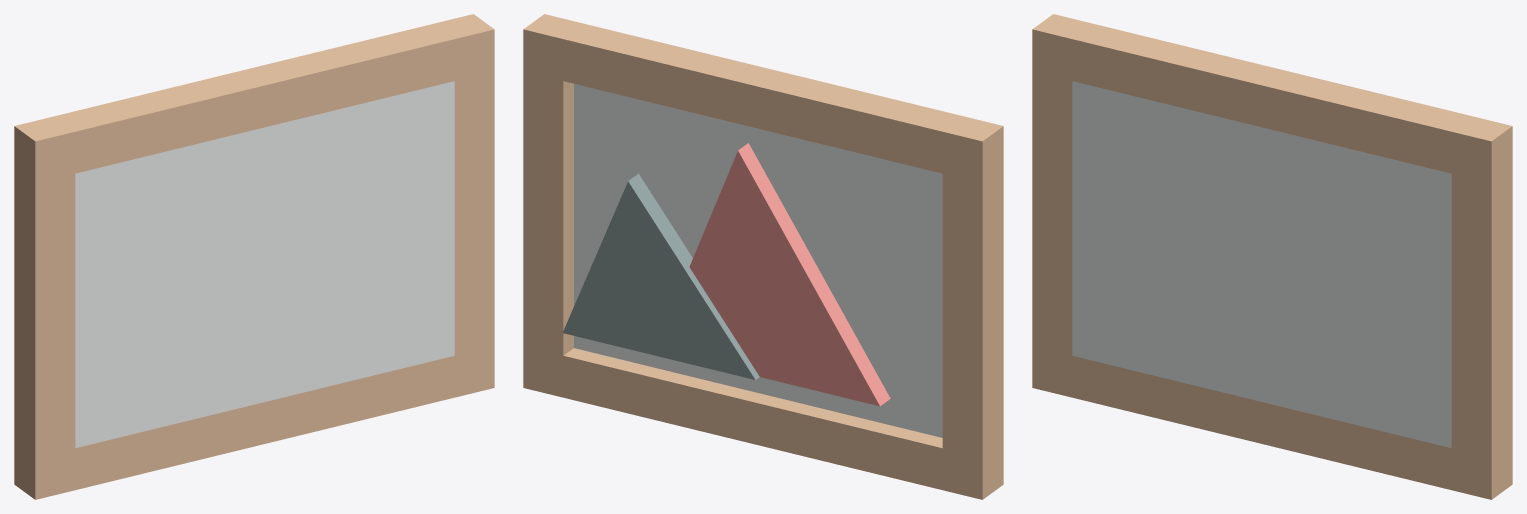
File: diner_wall_art_b.glb
3 views of the same model, side by side, from view 1: azimuth 30°, elevation 25°; view 2: azimuth 150°, elevation 25°; view 3: azimuth 330°, elevation 25° (orthographic).
Parts seen in each view (by area): view 1: wall_art_b_canvas, wall_art_b_frame_top, wall_art_b_frame_bottom, wall_art_b_frame_left, wall_art_b_frame_right; view 2: wall_art_b_canvas, wall_art_b_frame_top, wall_art_b_frame_bottom, wall_art_b_red_peak, wall_art_b_dark_peak, wall_art_b_frame_left, wall_art_b_frame_right; view 3: wall_art_b_canvas, wall_art_b_frame_top, wall_art_b_frame_bottom, wall_art_b_frame_right, wall_art_b_frame_left.
Part boxes in pixels (<box>): wall_art_b_canvas: <box>75,81,454,448</box>; wall_art_b_frame_top: <box>14,14,494,183</box>; wall_art_b_frame_bottom: <box>14,346,494,499</box>; wall_art_b_frame_left: <box>14,168,75,457</box>; wall_art_b_frame_right: <box>454,71,494,355</box>; wall_art_b_canvas: <box>574,84,942,437</box>; wall_art_b_frame_top: <box>523,14,1003,183</box>; wall_art_b_frame_bottom: <box>523,346,1003,499</box>; wall_art_b_red_peak: <box>689,143,890,406</box>; wall_art_b_dark_peak: <box>562,173,759,379</box>; wall_art_b_frame_left: <box>942,168,1003,457</box>; wall_art_b_frame_right: <box>523,71,573,355</box>; wall_art_b_canvas: <box>1072,81,1451,448</box>; wall_art_b_frame_top: <box>1032,14,1512,183</box>; wall_art_b_frame_bottom: <box>1032,346,1512,499</box>; wall_art_b_frame_right: <box>1451,168,1512,457</box>; wall_art_b_frame_left: <box>1032,71,1072,355</box>.
Bounding box in the file's own units: 0.63 × 0.47 × 0.0695.
